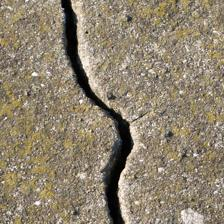Crack: (30, 3, 107, 221)
